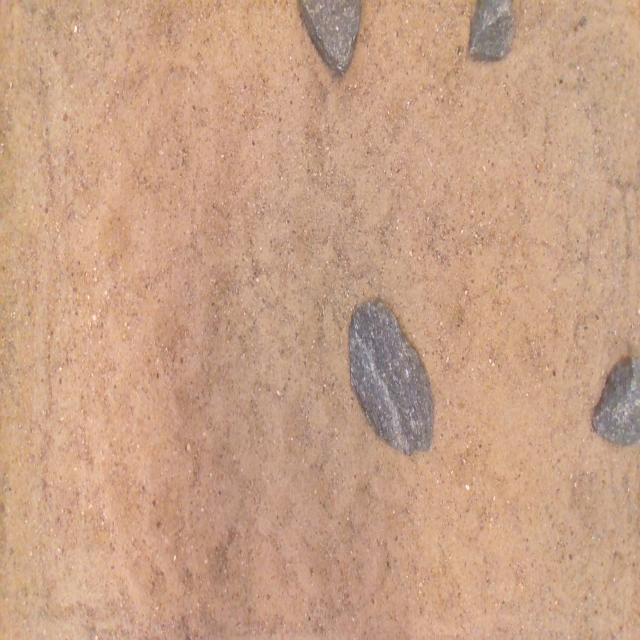rock: (349, 302, 433, 454), (300, 0, 360, 73), (592, 359, 640, 444), (469, 0, 514, 60)
